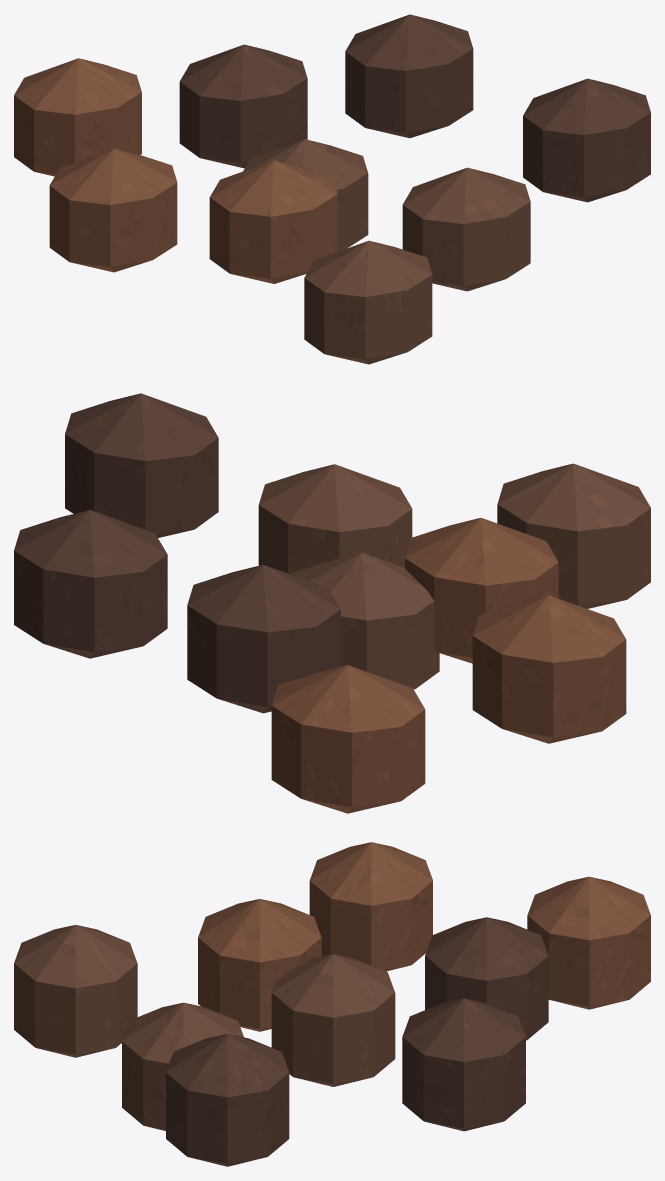
File: maltballs.glb
3 renders of one model, top to bottom at view 1: azimuth 30°, elevation 25°; view 2: azimuth 150°, elevation 25°; view 3: azimuth 270°, elevation 25°, orthographic. The views are drawn at different scales.
Parts seen in each view (by area): view 1: block_bite-sized sweet (×9); view 2: block_bite-sized sweet (×9); view 3: block_bite-sized sweet (×9).
Part boxes in pixels (left/top/right/bottom): block_bite-sized sweet (×9): left=14, top=14, right=650, bottom=364; block_bite-sized sweet (×9): left=14, top=393, right=650, bottom=813; block_bite-sized sweet (×9): left=14, top=842, right=650, bottom=1166.
Bounding box in the file's own units: 0.0704 × 0.0212 × 0.0696.
Materials: 1 (1 with a texture image).
